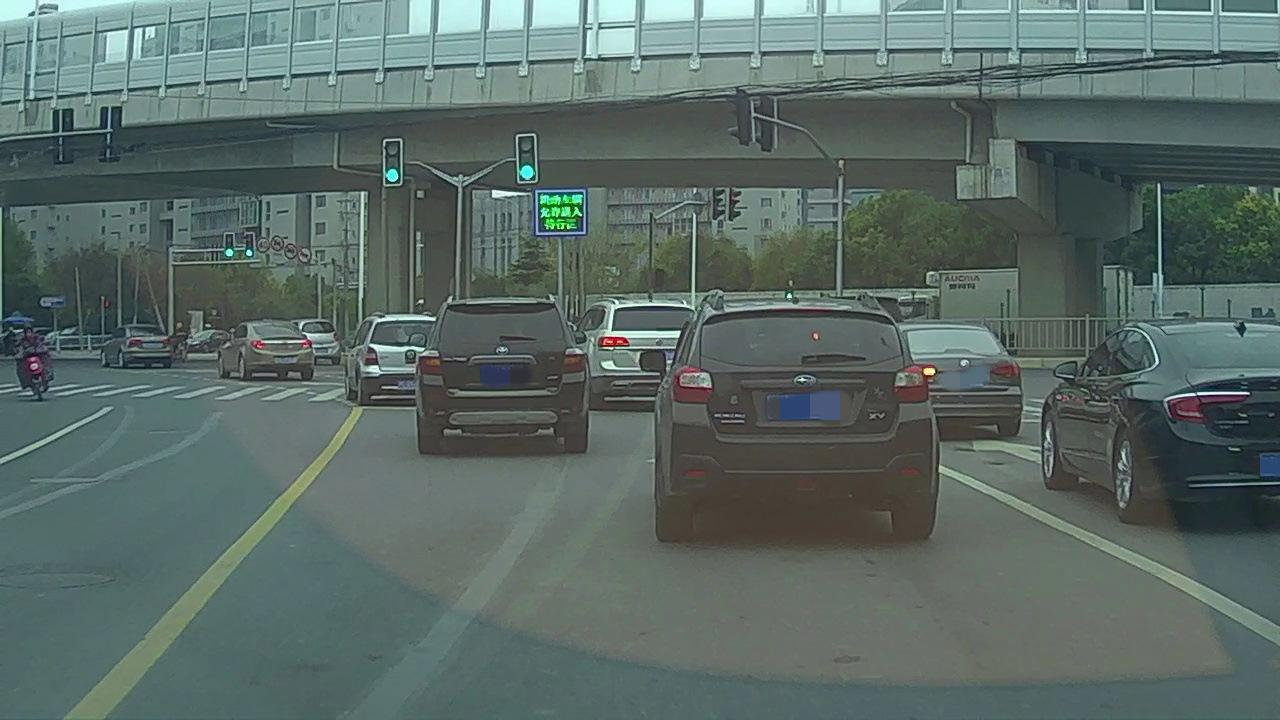traffic_light: (518, 138, 537, 182), (384, 141, 400, 183)
